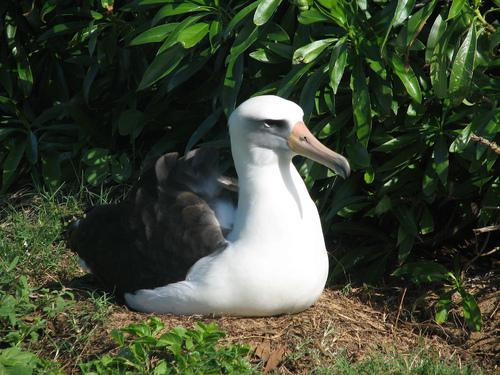002.Laysan_Albatross: (125, 96, 351, 319)
